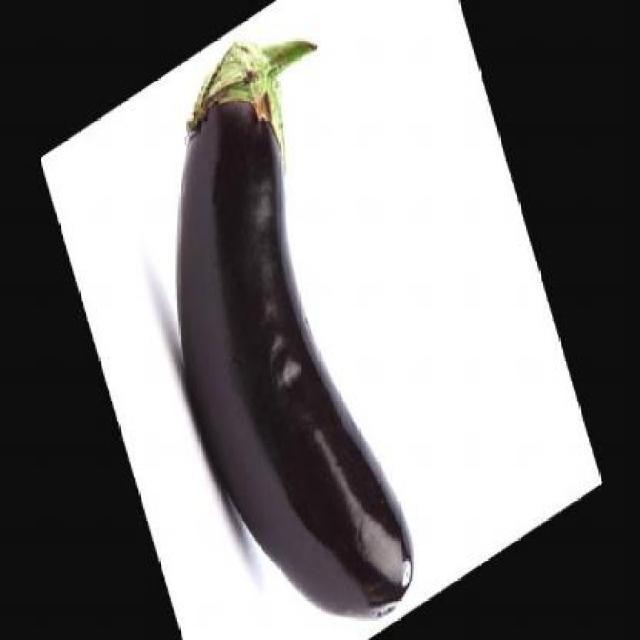eggplant: (169, 36, 424, 620)
